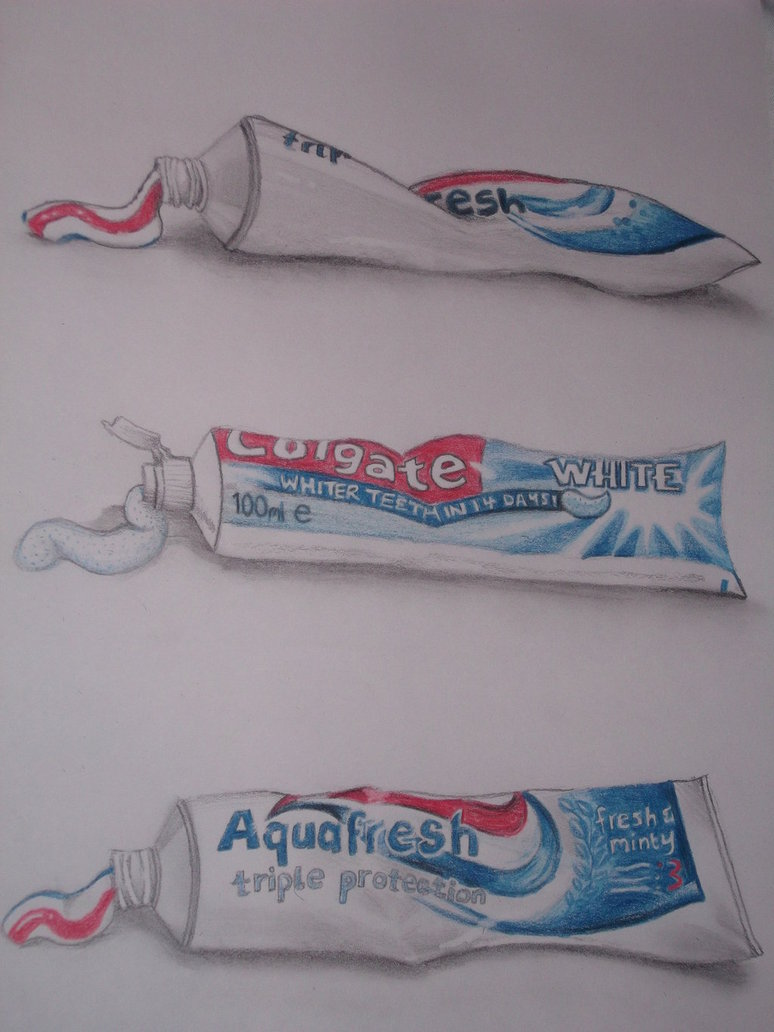Nonrec_Plastic: (25, 378, 762, 642), (33, 76, 766, 322), (10, 779, 773, 1004)
